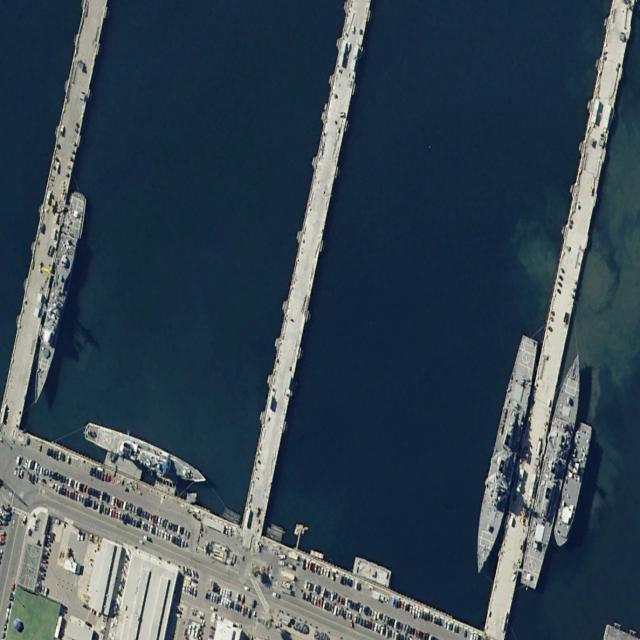Destroyer: (466, 329, 542, 578), (518, 346, 589, 591)
Frigate: (29, 187, 88, 408)
Other Ship: (81, 416, 209, 491)
Other Warship: (549, 417, 595, 550)
